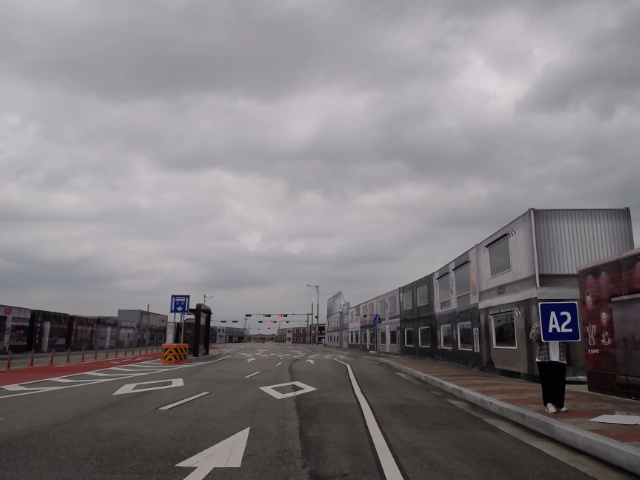delivery_a2: (539, 302, 580, 342)
